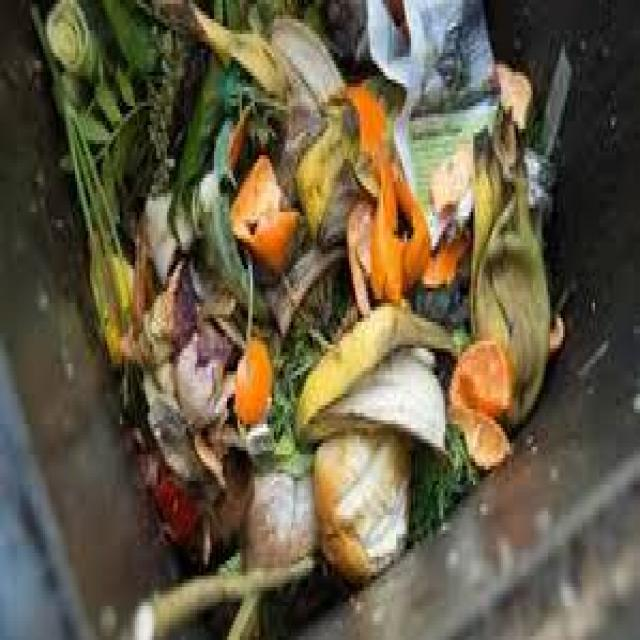organic waste: (28, 4, 130, 375), (462, 102, 548, 420), (291, 295, 471, 443), (77, 49, 182, 254), (188, 91, 266, 329), (342, 76, 426, 295), (130, 557, 319, 636), (312, 432, 409, 583), (266, 7, 344, 166), (167, 57, 235, 235), (118, 276, 242, 364), (250, 303, 319, 447), (190, 0, 286, 98), (443, 330, 510, 470), (404, 416, 471, 542), (188, 432, 252, 556), (240, 458, 310, 564), (139, 371, 201, 485), (227, 152, 293, 258), (302, 125, 355, 246), (212, 0, 323, 57), (113, 379, 167, 496), (173, 314, 227, 424), (98, 0, 167, 76), (38, 0, 98, 80), (407, 269, 473, 341), (139, 458, 193, 546), (216, 534, 259, 636), (229, 326, 270, 432), (340, 193, 379, 303), (492, 60, 531, 144), (419, 231, 471, 288), (321, 0, 368, 53), (518, 147, 554, 200), (546, 307, 563, 356)
